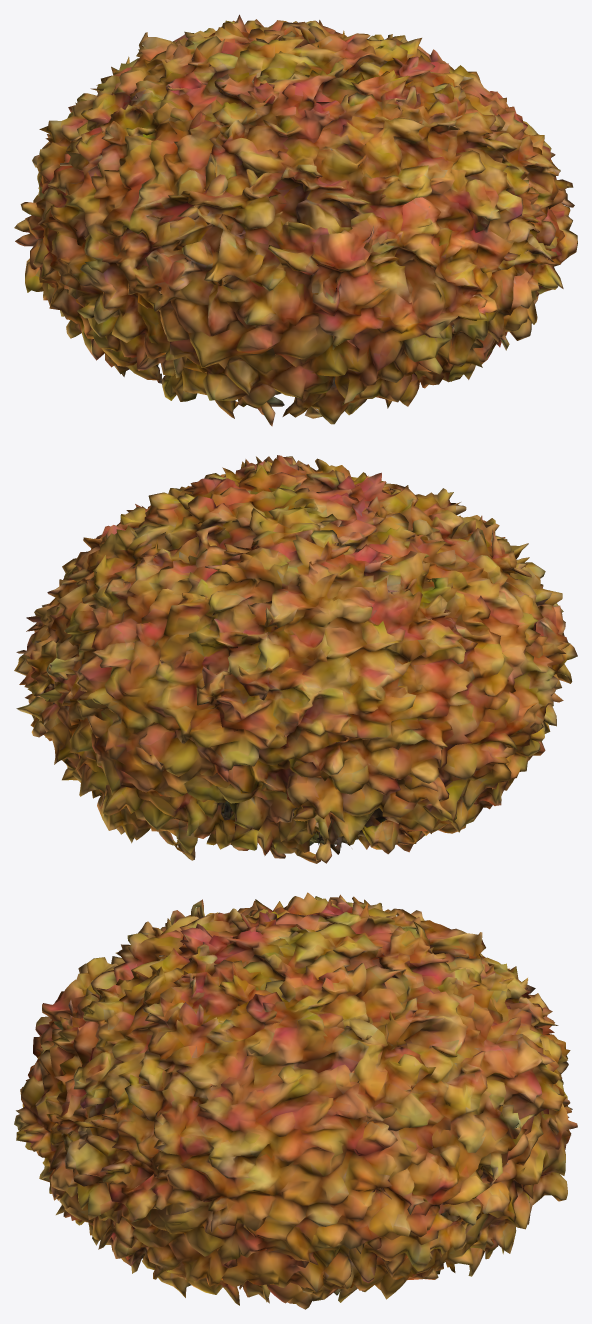
3 views of the same model, one above another, from view 1: azimuth 30°, elevation 25°; view 2: azimuth 150°, elevation 25°; view 3: azimuth 270°, elevation 25° (orthographic). The views are drawn at different scales.
Bounding box in the file's own units: 2 × 1.3 × 1.99.
1 material, 1 textured.
